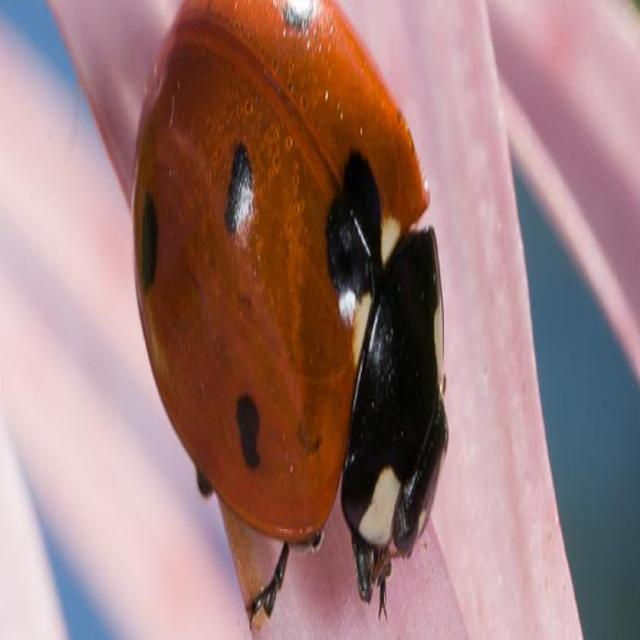ladybug: (133, 0, 447, 623)
